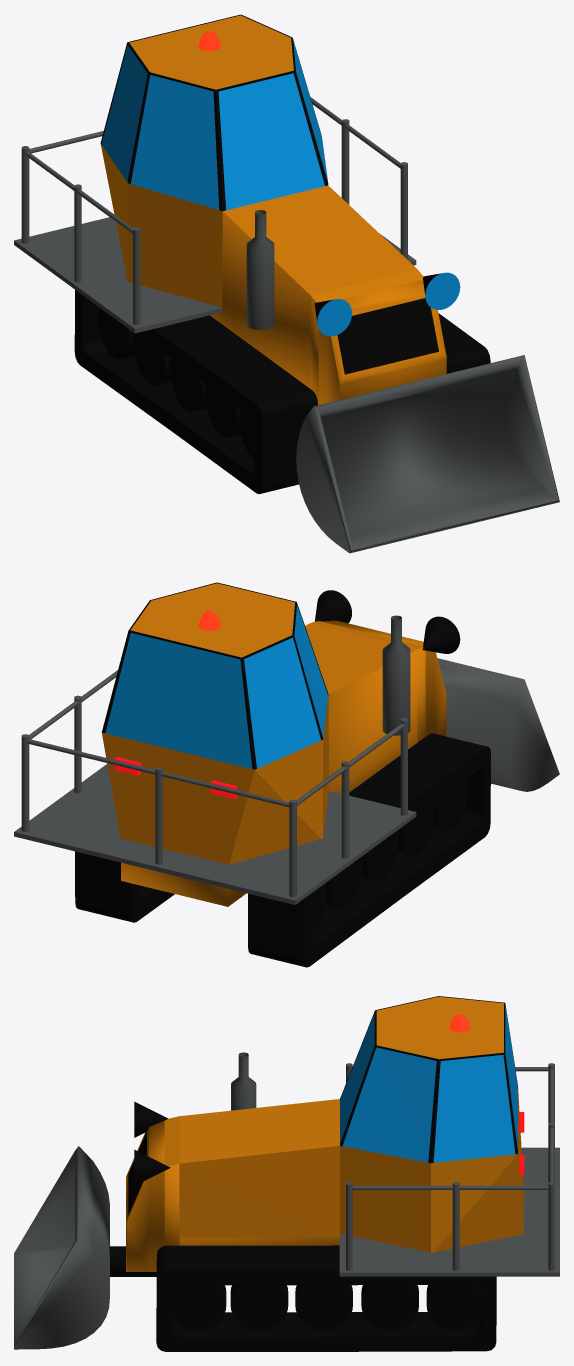
Rendered from BullDozer.dae.
The picture shows the model from 3 angles, top to bottom: view 1: azimuth 30°, elevation 25°; view 2: azimuth 150°, elevation 25°; view 3: azimuth 270°, elevation 25°; orthographic projection. The views are drawn at different scales.
Visible parts, largest first — view 1: Korpus, FrontKnife, RightTrack, Plane.001, GasTube, FrontLights, LeftTrack, Cylinder.007, Cylinder.002, Cylinder.005, Cylinder.001, Cylinder.003 (+1 smaller); view 2: Korpus, RightTrack, Plane.001, FrontKnife, LeftTrack, GasTube, FrontLights, Cylinder.010, Cylinder.004, Cylinder.005, Cylinder.007, Cylinder.006 (+5 smaller); view 3: Korpus, LeftTrack, FrontKnife, Plane.001, FrontLights, GasTube, Cylinder.008, Cylinder.003, Cylinder.001, Cylinder.004, Cylinder.010.
Boxes of the visible parts, x1=… form: Korpus: x1=100, y1=14, x2=446, y2=405; FrontKnife: x1=296, y1=355, x2=559, y2=553; RightTrack: x1=74, y1=290, x2=317, y2=494; Plane.001: x1=14, y1=217, x2=416, y2=333; GasTube: x1=246, y1=210, x2=274, y2=329; FrontLights: x1=314, y1=272, x2=460, y2=336; LeftTrack: x1=438, y1=313, x2=490, y2=373; Cylinder.007: x1=21, y1=146, x2=29, y2=243; Cylinder.002: x1=133, y1=227, x2=140, y2=324; Cylinder.005: x1=74, y1=184, x2=81, y2=282; Cylinder.001: x1=400, y1=162, x2=407, y2=258; Cylinder.003: x1=341, y1=119, x2=349, y2=204; Korpus: x1=101, y1=582, x2=446, y2=906; RightTrack: x1=248, y1=733, x2=490, y2=967; Plane.001: x1=14, y1=764, x2=416, y2=904; FrontKnife: x1=437, y1=658, x2=559, y2=791; LeftTrack: x1=75, y1=851, x2=174, y2=922; GasTube: x1=382, y1=615, x2=410, y2=735; FrontLights: x1=314, y1=590, x2=460, y2=653; Cylinder.010: x1=26, y1=739, x2=289, y2=807; Cylinder.004: x1=21, y1=734, x2=29, y2=831; Cylinder.005: x1=341, y1=761, x2=349, y2=858; Cylinder.007: x1=289, y1=799, x2=296, y2=897; Cylinder.006: x1=155, y1=767, x2=162, y2=864; Korpus: x1=126, y1=996, x2=523, y2=1271; LeftTrack: x1=156, y1=1245, x2=496, y2=1351; FrontKnife: x1=14, y1=1146, x2=156, y2=1349; Plane.001: x1=339, y1=1147, x2=559, y2=1276; FrontLights: x1=134, y1=1101, x2=170, y2=1185; GasTube: x1=231, y1=1052, x2=256, y2=1110; Cylinder.008: x1=352, y1=1185, x2=548, y2=1189; Cylinder.003: x1=452, y1=1182, x2=459, y2=1270; Cylinder.001: x1=346, y1=1182, x2=352, y2=1270; Cylinder.004: x1=548, y1=1182, x2=554, y2=1270; Cylinder.010: x1=549, y1=1068, x2=553, y2=1182.
Bounding box in the file's own units: 5.26 × 9.71 × 5.66.
